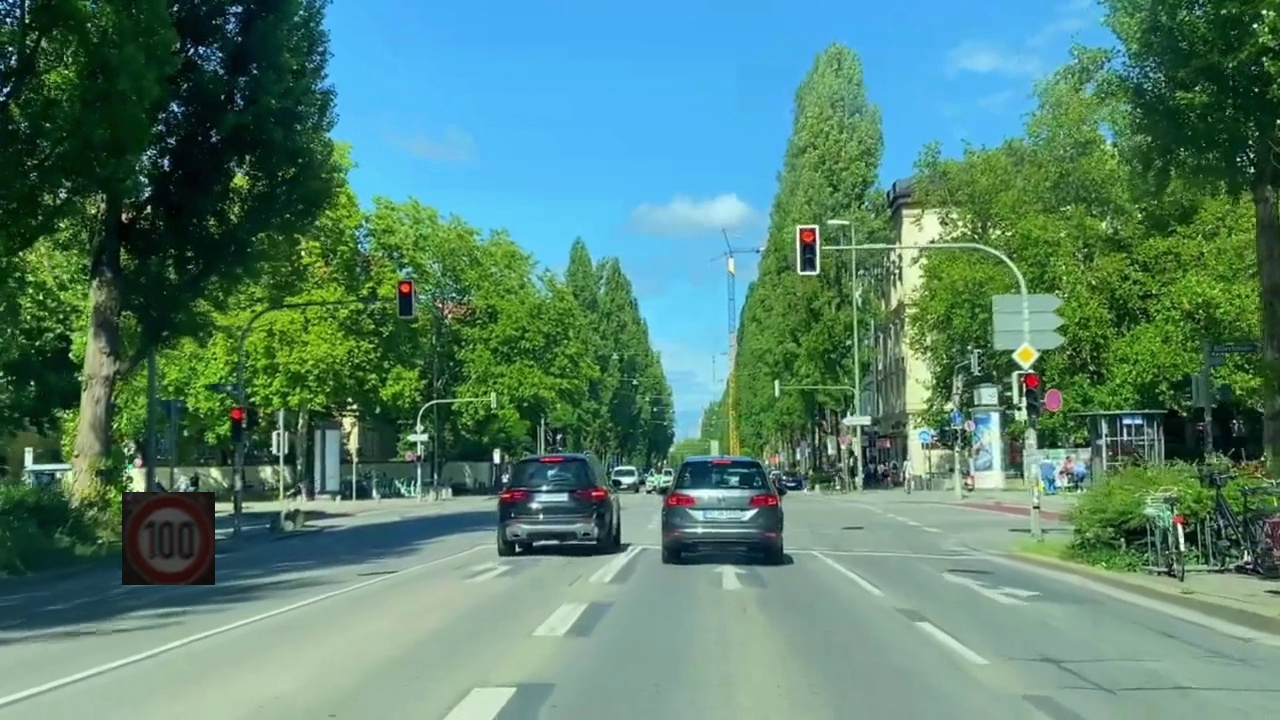Speed 100: (122, 492, 215, 585)
